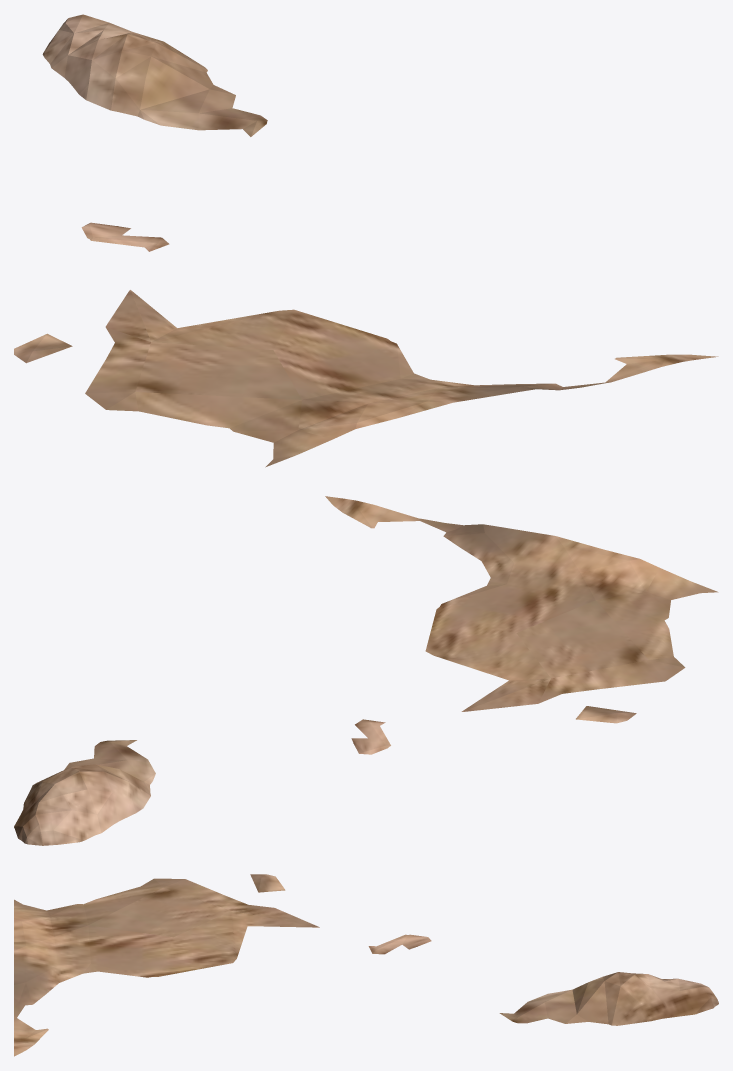
The picture shows the model from 3 angles, top to bottom: view 1: azimuth 30°, elevation 25°; view 2: azimuth 150°, elevation 25°; view 3: azimuth 270°, elevation 25°; orthographic projection. The views are drawn at different scales.
Size of the model in its own units: 0.5739 by 0.0418 by 0.9379.
1 material, 1 textured.
